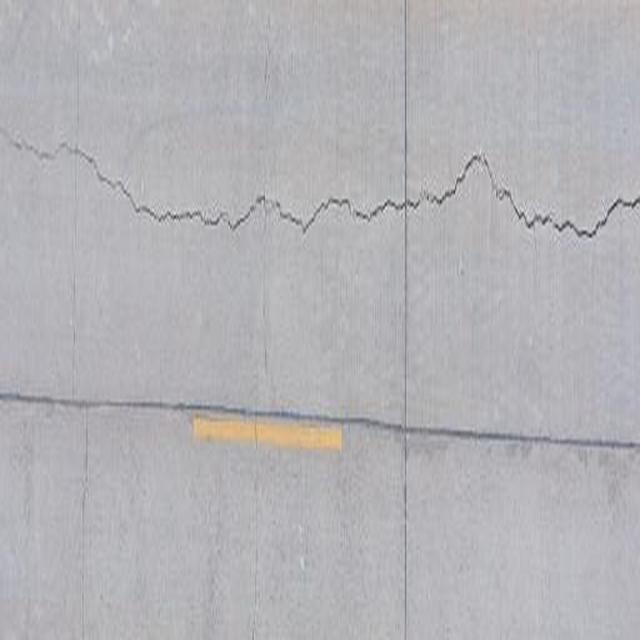minor crack: (138, 194, 254, 230), (569, 210, 621, 238), (272, 201, 311, 232), (54, 139, 98, 162)
moderate crack: (251, 23, 283, 623), (5, 0, 176, 80), (76, 40, 92, 630), (397, 16, 410, 625), (566, 440, 627, 480), (13, 434, 37, 527), (405, 434, 452, 454), (514, 438, 534, 458)
severe crack: (2, 123, 68, 164), (276, 410, 386, 430)
